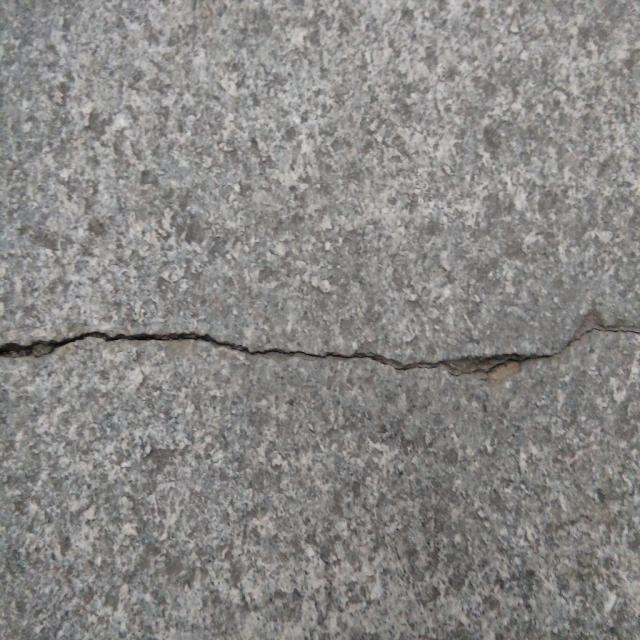cracks: (0, 294, 640, 403)
